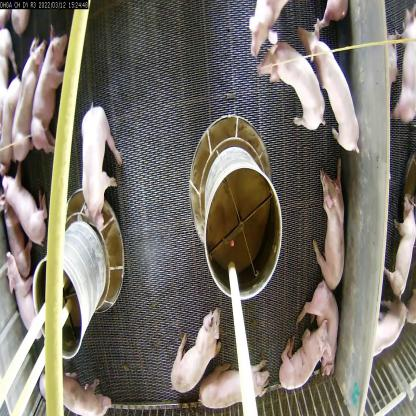Pig: (260, 34, 328, 132), (302, 47, 362, 153), (80, 109, 124, 231), (9, 46, 49, 178), (310, 169, 350, 299), (34, 28, 74, 154), (173, 298, 224, 390), (272, 317, 331, 396), (196, 356, 267, 416), (2, 163, 49, 247), (44, 360, 113, 416), (300, 277, 338, 376), (6, 236, 38, 339)
